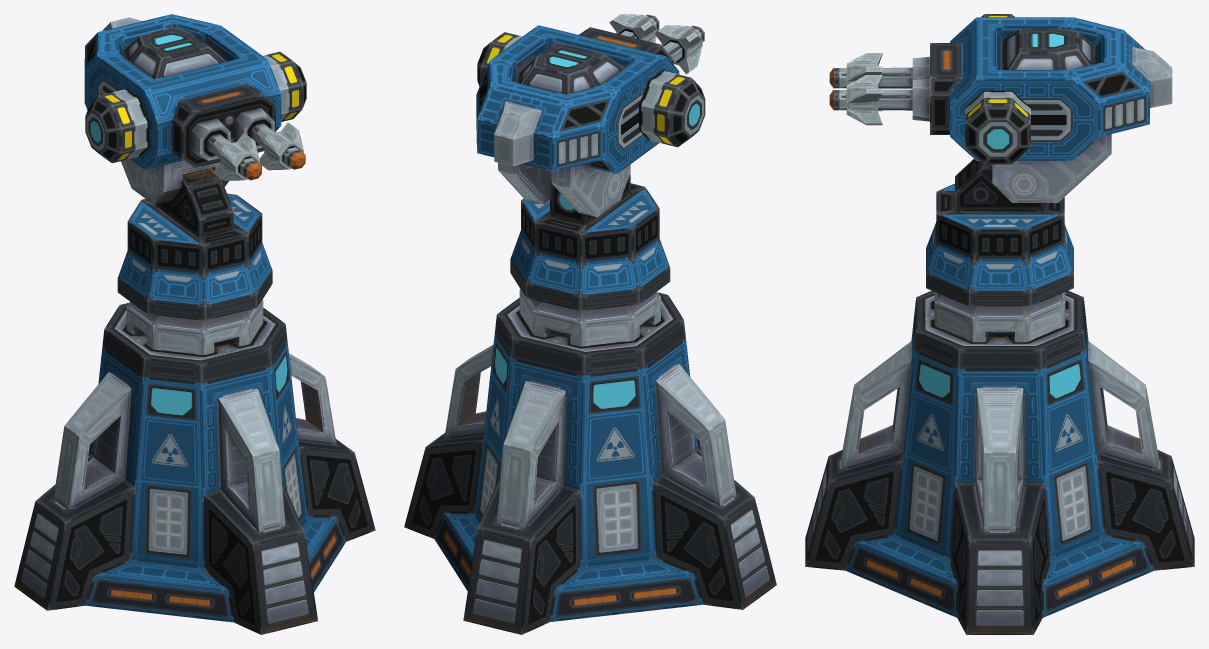
3 views of the same model, side by side, from view 1: azimuth 30°, elevation 25°; view 2: azimuth 150°, elevation 25°; view 3: azimuth 270°, elevation 25° (orthographic). The views are drawn at different scales.
Visible parts, largest first — view 1: c210a111-6550-4115-af75-492cf5d6b76d, d6f3721e-877a-4708-a34a-6f1cb0f80d56, 2a734ebd-ecf0-4d44-ab0d-0f023be348fb, cc8d6912-46cd-49e4-ab7a-f84efebed31c, 47786b9f-f9dc-4522-810f-6bf02d702b19, e8c1f009-84b0-4162-8c24-a27fe36806cb, 3b58a010-4995-4702-9305-fc17b42185ea, 735c8e0a-52b3-4dbe-8b1b-0f0faf321681; view 2: c210a111-6550-4115-af75-492cf5d6b76d, d6f3721e-877a-4708-a34a-6f1cb0f80d56, cc8d6912-46cd-49e4-ab7a-f84efebed31c, 2a734ebd-ecf0-4d44-ab0d-0f023be348fb, 47786b9f-f9dc-4522-810f-6bf02d702b19, e8c1f009-84b0-4162-8c24-a27fe36806cb, 3b58a010-4995-4702-9305-fc17b42185ea, 735c8e0a-52b3-4dbe-8b1b-0f0faf321681; view 3: c210a111-6550-4115-af75-492cf5d6b76d, 2a734ebd-ecf0-4d44-ab0d-0f023be348fb, d6f3721e-877a-4708-a34a-6f1cb0f80d56, cc8d6912-46cd-49e4-ab7a-f84efebed31c, e8c1f009-84b0-4162-8c24-a27fe36806cb, 47786b9f-f9dc-4522-810f-6bf02d702b19, 735c8e0a-52b3-4dbe-8b1b-0f0faf321681, 3b58a010-4995-4702-9305-fc17b42185ea.
Part boxes in pixels (x1,y1,x2,y2): c210a111-6550-4115-af75-492cf5d6b76d: [14, 303, 375, 634]; d6f3721e-877a-4708-a34a-6f1cb0f80d56: [117, 167, 272, 320]; 2a734ebd-ecf0-4d44-ab0d-0f023be348fb: [84, 15, 305, 204]; cc8d6912-46cd-49e4-ab7a-f84efebed31c: [97, 14, 267, 90]; 47786b9f-f9dc-4522-810f-6bf02d702b19: [85, 51, 306, 163]; e8c1f009-84b0-4162-8c24-a27fe36806cb: [126, 299, 263, 355]; 3b58a010-4995-4702-9305-fc17b42185ea: [213, 133, 259, 180]; 735c8e0a-52b3-4dbe-8b1b-0f0faf321681: [257, 122, 303, 170]; c210a111-6550-4115-af75-492cf5d6b76d: [404, 292, 776, 634]; d6f3721e-877a-4708-a34a-6f1cb0f80d56: [510, 174, 670, 310]; cc8d6912-46cd-49e4-ab7a-f84efebed31c: [477, 25, 665, 171]; 2a734ebd-ecf0-4d44-ab0d-0f023be348fb: [476, 14, 704, 217]; 47786b9f-f9dc-4522-810f-6bf02d702b19: [477, 32, 705, 147]; e8c1f009-84b0-4162-8c24-a27fe36806cb: [519, 289, 660, 346]; 3b58a010-4995-4702-9305-fc17b42185ea: [654, 25, 702, 74]; 735c8e0a-52b3-4dbe-8b1b-0f0faf321681: [609, 14, 657, 42]; c210a111-6550-4115-af75-492cf5d6b76d: [805, 290, 1194, 634]; 2a734ebd-ecf0-4d44-ab0d-0f023be348fb: [829, 18, 1149, 202]; d6f3721e-877a-4708-a34a-6f1cb0f80d56: [926, 159, 1073, 306]; cc8d6912-46cd-49e4-ab7a-f84efebed31c: [976, 17, 1172, 107]; e8c1f009-84b0-4162-8c24-a27fe36806cb: [934, 292, 1065, 342]; 47786b9f-f9dc-4522-810f-6bf02d702b19: [965, 14, 1030, 164]; 735c8e0a-52b3-4dbe-8b1b-0f0faf321681: [846, 75, 882, 125]; 3b58a010-4995-4702-9305-fc17b42185ea: [846, 53, 882, 88].
Bounding box in the file's own units: 68.29 × 99.08 × 68.29.
Materials: 2 (1 with a texture image).
